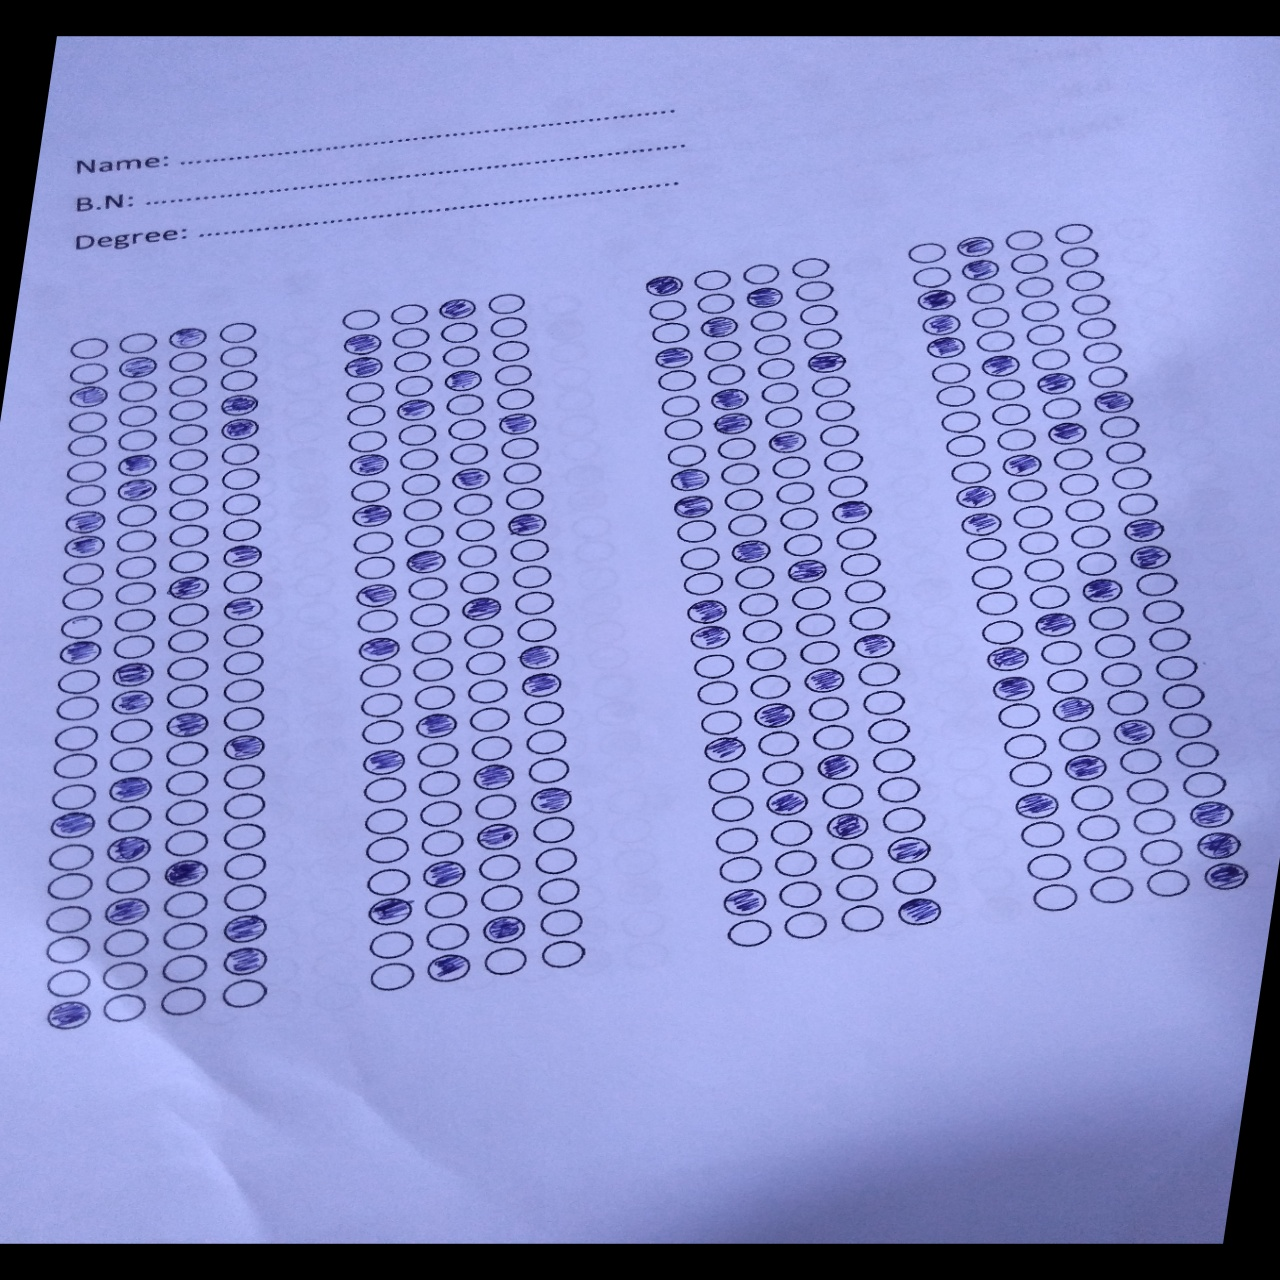not-c: (537, 938, 592, 968), (479, 947, 535, 978), (218, 978, 271, 1008), (533, 908, 590, 937), (365, 928, 418, 958), (365, 961, 418, 990), (359, 836, 414, 863), (465, 794, 520, 821), (476, 855, 531, 881), (529, 816, 584, 843), (1090, 632, 1141, 661), (476, 884, 530, 911), (411, 801, 465, 828), (420, 922, 474, 949), (100, 961, 151, 989), (1023, 852, 1073, 881), (1032, 881, 1081, 911), (862, 714, 911, 743), (689, 651, 738, 680), (1065, 783, 1115, 812), (418, 892, 474, 918), (1085, 874, 1136, 903), (808, 723, 858, 751), (856, 661, 906, 689), (1103, 687, 1153, 715), (1000, 731, 1050, 760), (743, 644, 794, 672), (1114, 748, 1164, 776), (1074, 813, 1122, 843), (888, 866, 937, 896), (1143, 869, 1191, 898), (724, 918, 772, 947), (1160, 681, 1208, 710), (995, 702, 1043, 731), (414, 831, 468, 857), (535, 879, 588, 905), (532, 847, 586, 873), (159, 891, 209, 919), (877, 805, 926, 833), (1129, 806, 1178, 835), (1137, 838, 1186, 866), (830, 842, 879, 870), (767, 819, 816, 847), (869, 745, 918, 774), (859, 686, 908, 714), (1141, 598, 1190, 626), (1097, 661, 1146, 689), (1152, 654, 1201, 682), (1173, 740, 1223, 768), (703, 765, 753, 794), (1148, 625, 1197, 653), (1053, 723, 1102, 751), (1046, 666, 1092, 695), (836, 904, 886, 931), (220, 884, 268, 912), (45, 968, 93, 996), (103, 866, 151, 894), (49, 783, 97, 811), (45, 842, 93, 870), (45, 935, 93, 964), (779, 911, 828, 939), (1082, 844, 1130, 872), (874, 775, 922, 803), (1180, 771, 1228, 799), (819, 781, 867, 809), (804, 696, 852, 724), (796, 638, 844, 666), (709, 795, 757, 823), (753, 729, 801, 757), (692, 680, 740, 708), (745, 672, 794, 700), (1124, 778, 1172, 806), (976, 617, 1024, 645), (836, 550, 884, 578), (156, 987, 205, 1014), (159, 954, 209, 981), (45, 872, 94, 899), (98, 994, 148, 1021), (1019, 821, 1068, 847), (831, 873, 880, 900), (1166, 712, 1216, 738), (710, 828, 760, 855), (696, 707, 745, 734), (1083, 605, 1132, 632), (845, 605, 894, 632), (774, 881, 823, 908), (520, 699, 568, 726), (105, 804, 154, 831), (159, 922, 207, 949), (101, 930, 149, 956), (43, 905, 91, 932), (772, 847, 821, 874), (716, 855, 764, 881), (1006, 761, 1054, 788), (107, 716, 154, 743), (222, 704, 268, 731), (222, 678, 268, 704), (467, 678, 513, 704), (461, 649, 508, 676), (416, 770, 463, 797), (365, 869, 411, 896), (760, 760, 806, 787), (1039, 639, 1085, 666), (967, 565, 1014, 592), (964, 538, 1010, 565), (459, 622, 508, 648), (358, 719, 406, 744), (842, 577, 890, 602), (57, 668, 103, 695), (57, 614, 104, 640), (108, 747, 155, 772), (109, 633, 156, 659), (111, 579, 158, 605), (161, 655, 207, 681), (222, 649, 268, 675), (52, 753, 98, 778), (470, 734, 517, 760), (465, 706, 512, 731), (410, 685, 457, 710), (409, 655, 456, 681), (358, 692, 404, 717), (358, 663, 404, 689), (524, 729, 571, 755), (164, 799, 211, 825), (219, 764, 266, 790), (833, 526, 880, 552), (788, 584, 835, 610), (821, 448, 867, 474), (738, 618, 785, 644), (968, 304, 1015, 329), (1085, 365, 1132, 390), (670, 519, 719, 544), (215, 319, 260, 345), (53, 724, 98, 750), (163, 740, 209, 765), (164, 683, 210, 709), (407, 602, 452, 628), (363, 808, 409, 833), (165, 769, 211, 795), (222, 853, 267, 879), (796, 612, 842, 638), (1027, 583, 1073, 608), (772, 481, 818, 506), (944, 434, 989, 459), (165, 629, 212, 654), (525, 758, 572, 783), (53, 695, 100, 720), (113, 607, 159, 632), (408, 628, 455, 653), (404, 576, 451, 600), (515, 615, 561, 640), (361, 777, 408, 802), (163, 830, 210, 855), (220, 823, 267, 847), (220, 794, 267, 818), (779, 531, 826, 556), (715, 462, 762, 486), (1057, 244, 1104, 268), (903, 239, 949, 264), (931, 383, 978, 408), (990, 427, 1037, 451), (1094, 415, 1141, 440), (217, 368, 261, 394), (115, 379, 159, 404), (67, 334, 111, 360), (1104, 440, 1149, 465), (1065, 525, 1114, 549), (415, 741, 461, 765), (974, 591, 1020, 615), (734, 592, 779, 617), (1022, 558, 1068, 583), (1012, 504, 1057, 529), (777, 504, 823, 529), (1062, 498, 1108, 523), (1133, 573, 1179, 598), (947, 461, 993, 485), (714, 436, 760, 461), (722, 486, 768, 511), (680, 571, 726, 595), (1068, 292, 1114, 316), (907, 264, 953, 288), (925, 360, 971, 384), (816, 423, 862, 448), (1058, 472, 1104, 497), (964, 281, 1009, 306), (987, 403, 1033, 428), (61, 584, 104, 610), (1108, 465, 1155, 489), (737, 263, 784, 286), (1114, 492, 1160, 516), (937, 409, 983, 433), (388, 301, 433, 326), (66, 410, 110, 435), (66, 359, 110, 383), (1016, 531, 1061, 556), (826, 474, 871, 498), (1063, 268, 1108, 293), (1082, 340, 1126, 365), (731, 565, 777, 588), (770, 457, 816, 481), (1073, 552, 1118, 576), (663, 443, 709, 467), (1074, 315, 1119, 339), (1050, 448, 1096, 471), (1001, 481, 1047, 504), (789, 256, 835, 279), (973, 329, 1019, 353), (983, 377, 1029, 401), (338, 306, 381, 331), (165, 348, 209, 373), (117, 331, 161, 355), (484, 291, 527, 315), (66, 483, 109, 508), (512, 590, 556, 614), (62, 560, 105, 585), (222, 624, 265, 648), (166, 601, 211, 625), (726, 512, 770, 536), (1005, 252, 1051, 274), (1028, 348, 1075, 370), (1023, 324, 1070, 346), (1017, 299, 1064, 321), (761, 406, 805, 429), (166, 373, 209, 397), (392, 373, 434, 397), (490, 340, 532, 365), (64, 434, 107, 458), (115, 503, 157, 527), (220, 517, 263, 542), (397, 448, 440, 472), (116, 554, 158, 579), (168, 550, 210, 574), (224, 568, 266, 593), (346, 429, 389, 452), (216, 442, 259, 465), (447, 442, 490, 465), (115, 527, 158, 551), (116, 429, 159, 452), (166, 497, 210, 520), (400, 497, 443, 520), (352, 531, 395, 554), (456, 544, 499, 567), (809, 375, 852, 399), (701, 339, 744, 362), (457, 572, 501, 595), (402, 525, 445, 549), (499, 435, 540, 459), (493, 387, 535, 411), (676, 546, 721, 568), (396, 422, 438, 445), (388, 326, 430, 349), (347, 403, 389, 427), (342, 381, 384, 404), (443, 394, 485, 417), (447, 418, 489, 442), (489, 316, 531, 340), (66, 459, 108, 483), (168, 523, 210, 546), (166, 472, 209, 496), (166, 448, 209, 471), (219, 467, 261, 490), (400, 474, 442, 497), (510, 565, 552, 588), (509, 539, 551, 563), (505, 486, 547, 510), (354, 554, 396, 578), (1012, 278, 1058, 299), (758, 381, 801, 404), (796, 304, 838, 327), (689, 268, 731, 292), (655, 368, 697, 392), (166, 397, 210, 420), (348, 481, 392, 503), (356, 608, 400, 631), (750, 332, 794, 354), (745, 309, 789, 332), (658, 394, 701, 416), (647, 298, 690, 320), (166, 422, 207, 445), (392, 349, 433, 373), (440, 321, 481, 345), (440, 343, 481, 367), (501, 461, 542, 484), (117, 404, 158, 428), (222, 491, 263, 515), (216, 346, 258, 368), (451, 493, 493, 516), (454, 519, 496, 542), (1053, 222, 1095, 244), (813, 399, 856, 421), (692, 291, 734, 313), (662, 418, 704, 441), (753, 358, 796, 379), (799, 327, 843, 348), (645, 322, 688, 343), (1041, 399, 1087, 418), (792, 281, 835, 302), (704, 363, 747, 384), (493, 365, 535, 386), (1005, 229, 1046, 248)
taken-c: (1192, 831, 1242, 860), (43, 1000, 91, 1030), (102, 898, 154, 926), (1110, 719, 1159, 748), (424, 953, 475, 981), (1061, 753, 1111, 781), (697, 736, 748, 764), (847, 631, 898, 659), (220, 947, 268, 976), (799, 665, 847, 694), (753, 701, 801, 730), (1200, 863, 1250, 891), (1009, 791, 1058, 819), (989, 673, 1039, 701), (813, 751, 863, 779), (763, 788, 812, 816), (956, 509, 1006, 537), (726, 538, 775, 566), (782, 557, 831, 585), (680, 597, 729, 625), (685, 625, 734, 653), (48, 812, 98, 839), (159, 860, 210, 887), (103, 837, 154, 864), (222, 914, 270, 942), (896, 897, 944, 925), (822, 812, 870, 840), (885, 836, 933, 864), (983, 645, 1032, 673), (1126, 543, 1175, 571), (828, 497, 876, 525), (719, 888, 768, 915), (1050, 697, 1099, 724), (479, 915, 527, 942), (367, 898, 415, 925), (527, 787, 576, 813), (1032, 610, 1080, 636), (1189, 801, 1235, 828), (411, 713, 459, 738), (222, 733, 267, 760), (475, 823, 522, 849), (404, 549, 449, 576), (1121, 517, 1165, 544), (422, 862, 468, 887), (361, 749, 407, 775), (450, 467, 493, 493), (517, 644, 561, 669), (115, 451, 159, 477), (356, 636, 401, 662), (353, 583, 397, 608), (61, 535, 105, 560), (1080, 577, 1124, 602), (66, 383, 111, 408), (108, 776, 154, 801), (471, 764, 517, 789), (222, 595, 265, 621), (62, 509, 105, 535), (459, 598, 504, 622), (347, 452, 392, 477), (441, 367, 485, 392), (340, 353, 384, 377), (110, 689, 155, 714), (110, 662, 155, 687), (978, 353, 1022, 377), (1034, 370, 1078, 395), (165, 325, 209, 349), (341, 331, 384, 355), (219, 415, 263, 440), (116, 355, 159, 380), (506, 511, 550, 536), (220, 544, 264, 568), (437, 298, 481, 322), (216, 392, 260, 415), (165, 576, 210, 599), (393, 399, 437, 422), (114, 478, 158, 502), (350, 504, 393, 529), (165, 712, 207, 736), (495, 410, 538, 434), (57, 640, 101, 663), (666, 468, 709, 491), (706, 387, 749, 410), (1046, 422, 1089, 445), (1000, 454, 1043, 477), (1090, 392, 1133, 415), (954, 485, 998, 508), (672, 496, 715, 518), (804, 350, 847, 373), (709, 413, 753, 435), (743, 287, 787, 309), (697, 315, 741, 338), (952, 236, 995, 258), (919, 313, 962, 335), (958, 259, 1001, 281), (924, 335, 967, 358), (642, 274, 685, 297), (915, 288, 958, 311), (768, 431, 811, 452), (652, 347, 695, 368)
